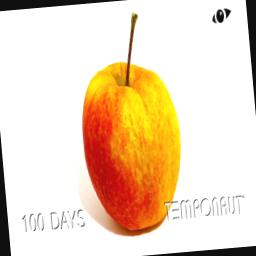Apple Ripe: (69, 0, 189, 235)
